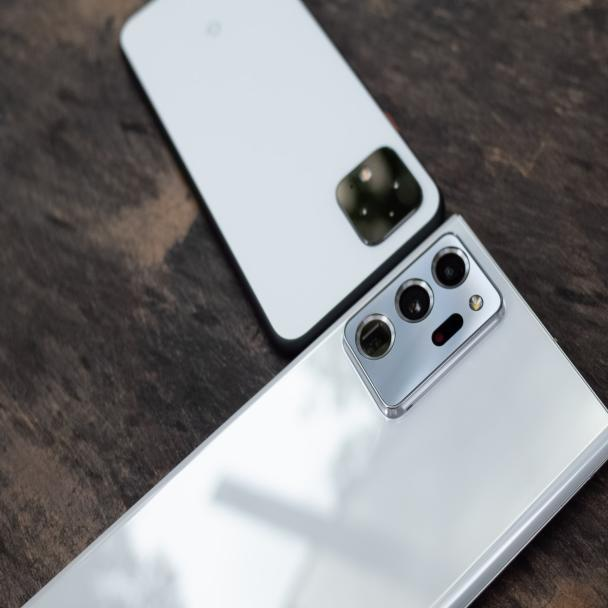Handphone: (18, 211, 608, 608), (112, 0, 449, 352)
